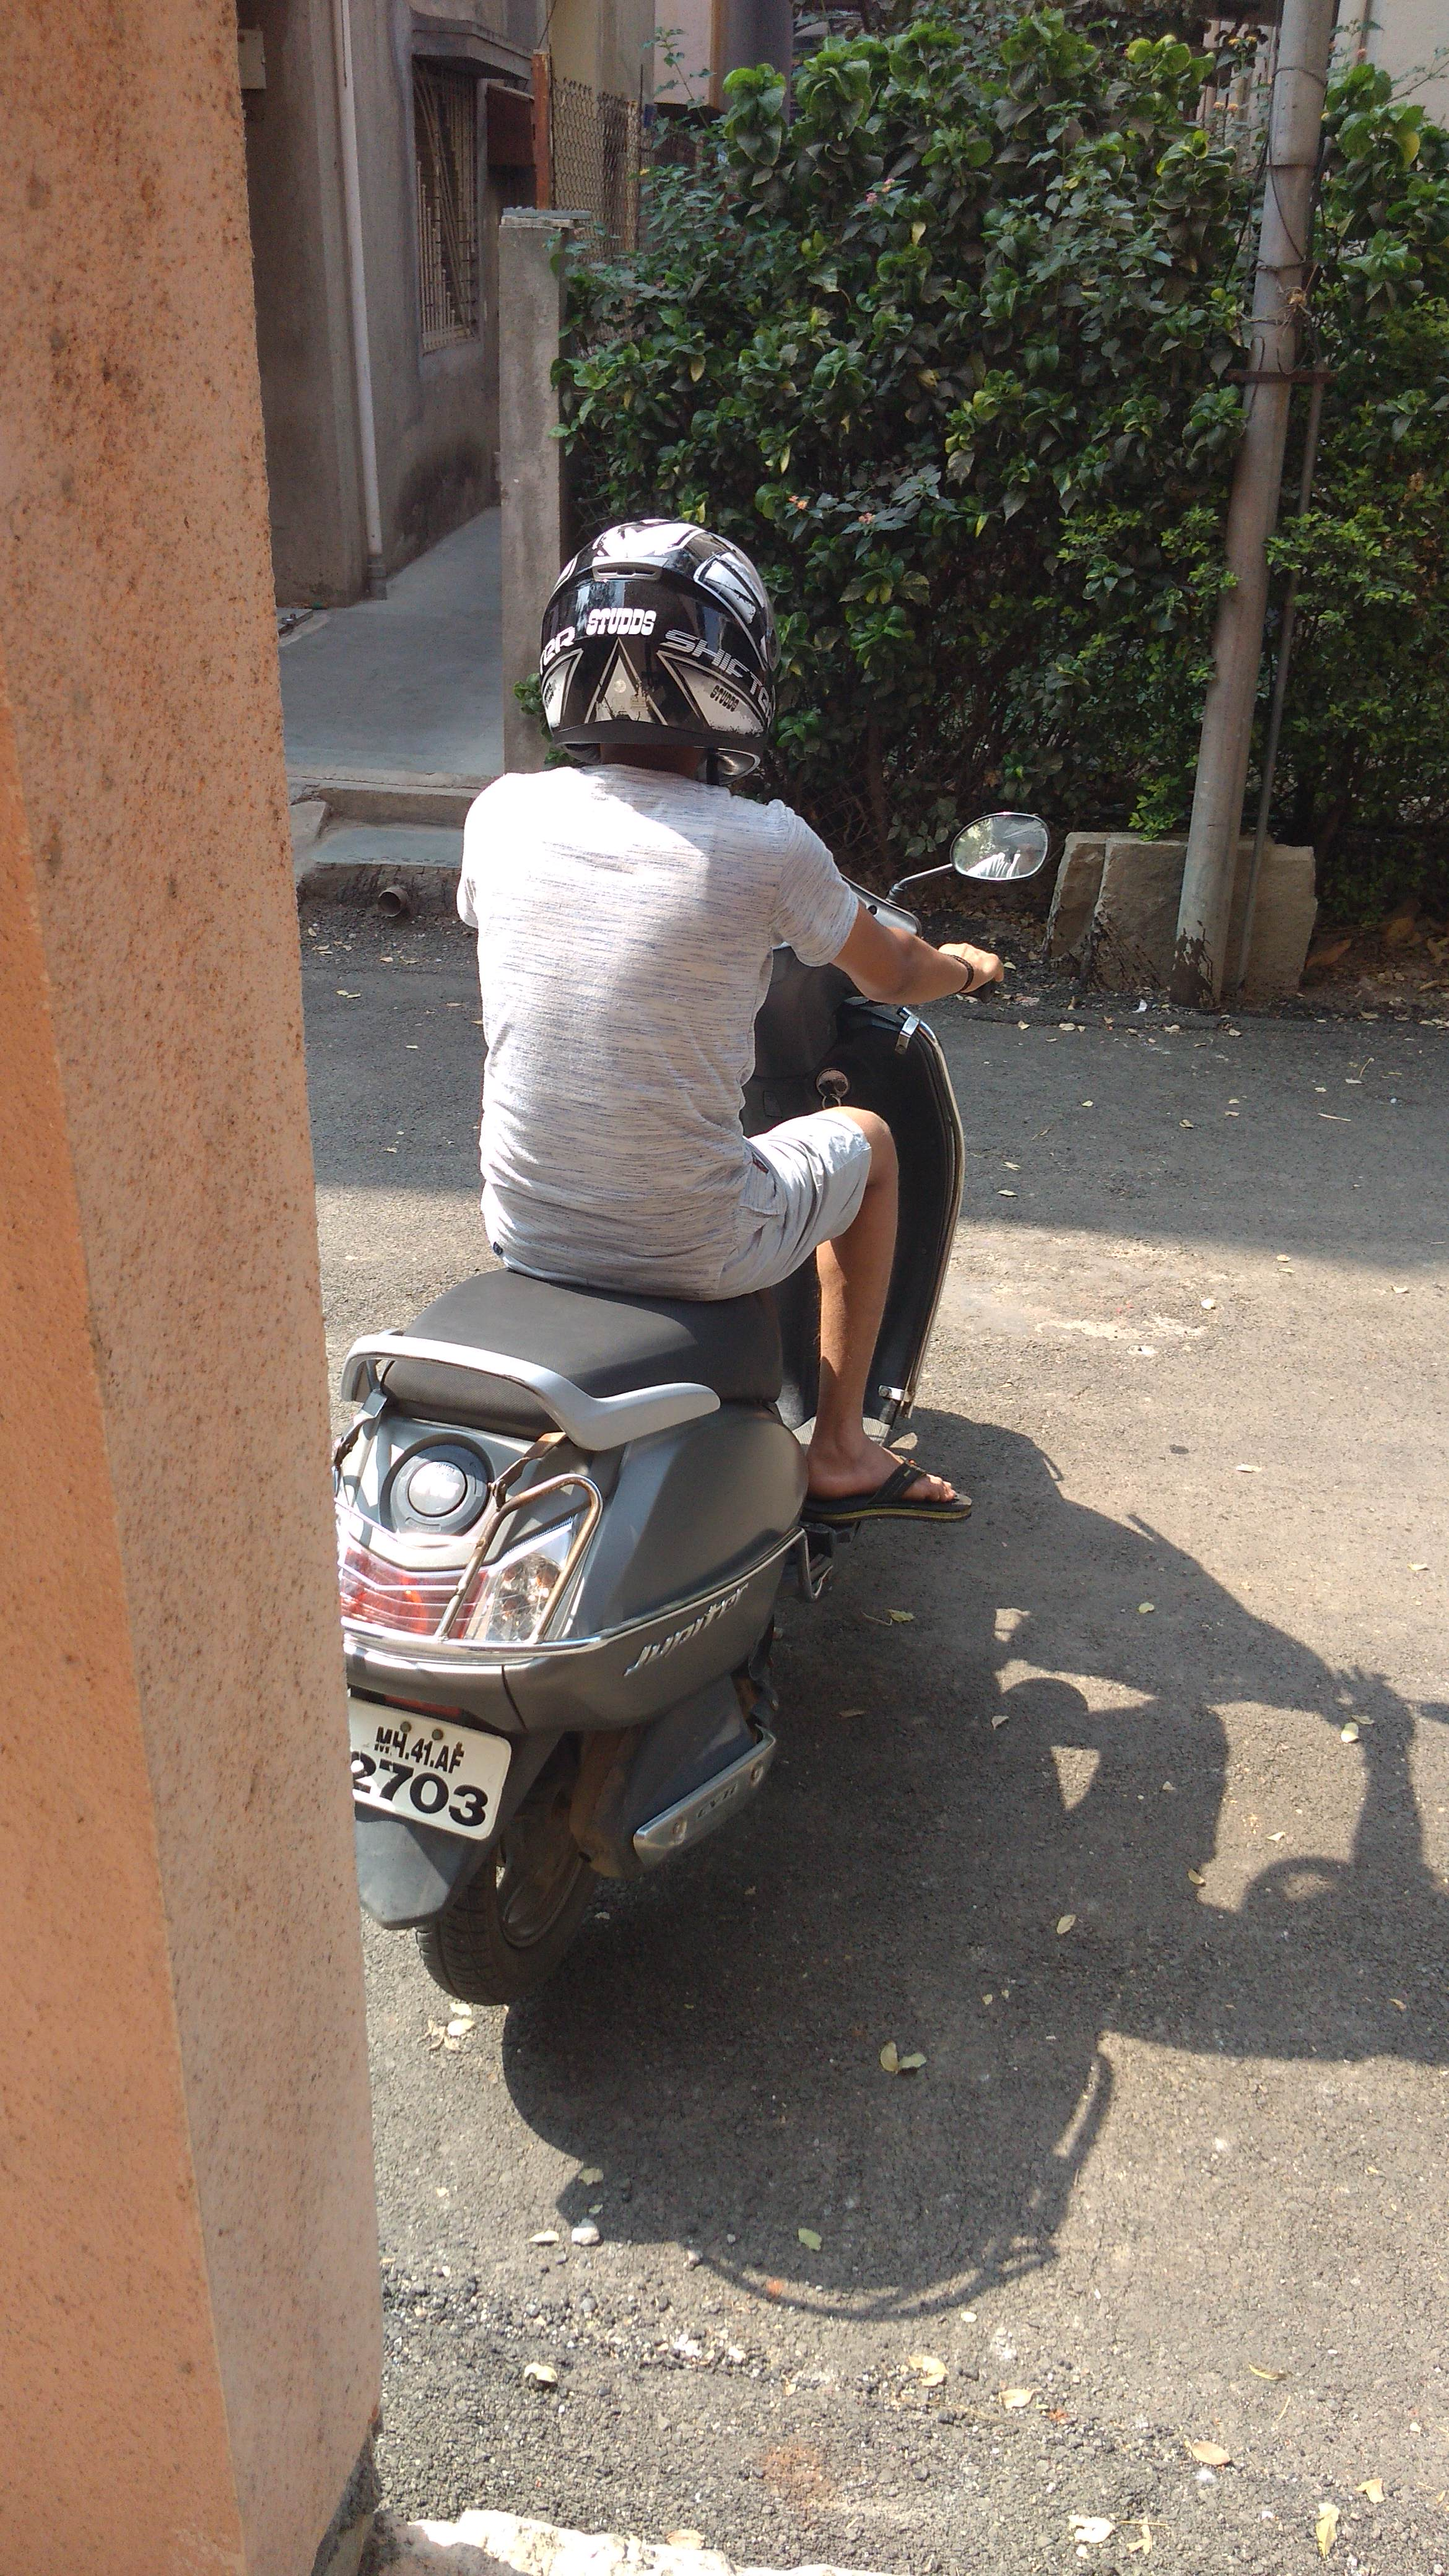helmet: (333, 474, 1017, 1399)
